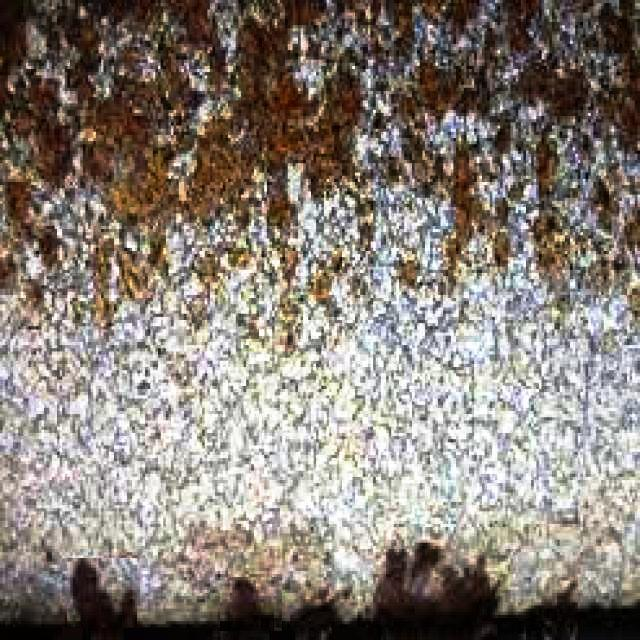Corrosion: (188, 23, 322, 228), (83, 76, 176, 226), (301, 57, 362, 196), (5, 77, 71, 184), (157, 18, 212, 124), (448, 142, 486, 274), (517, 60, 589, 116), (402, 60, 461, 118), (0, 0, 28, 84), (502, 0, 531, 52)
